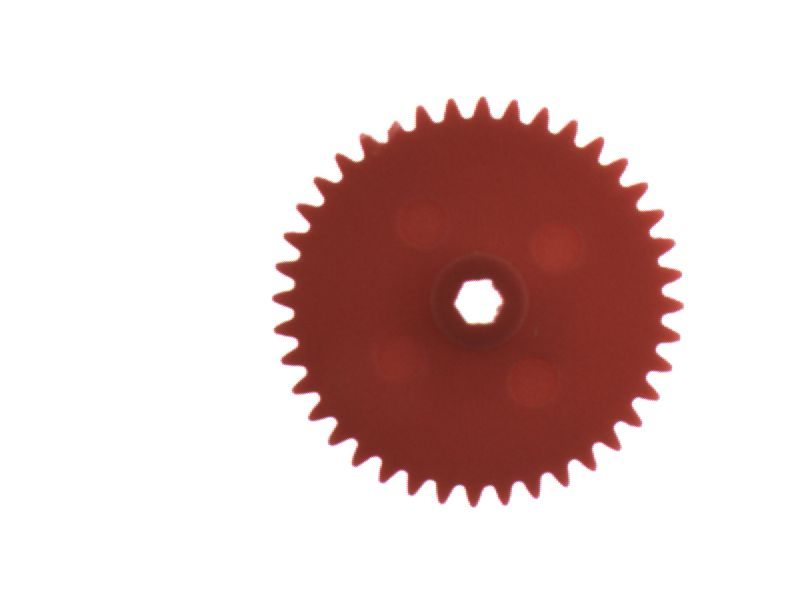defect_break: (375, 111, 414, 146)
